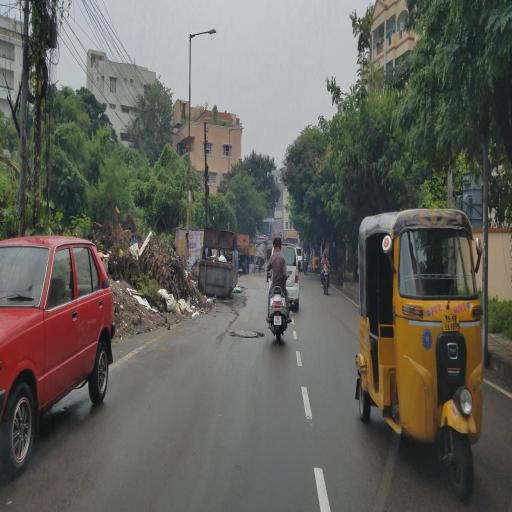street_light_0: (185, 25, 219, 41)
